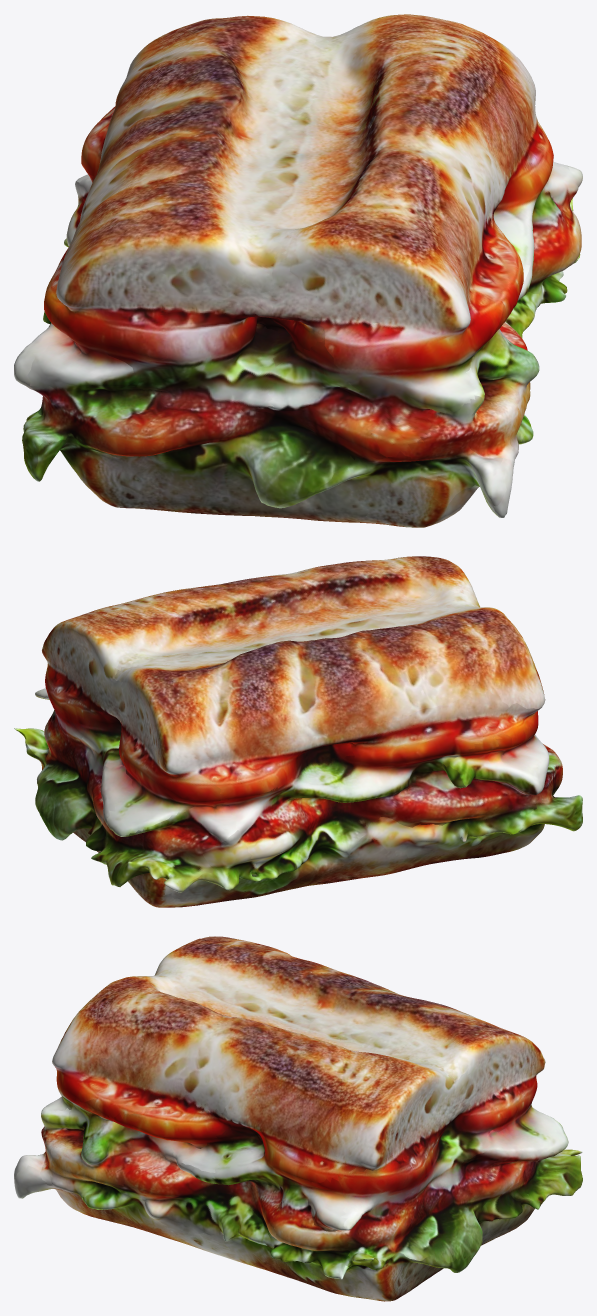
The model's file is sandwichsample.glb.
3 renders of one model, top to bottom at view 1: azimuth 30°, elevation 25°; view 2: azimuth 150°, elevation 25°; view 3: azimuth 270°, elevation 25°, orthographic. The views are drawn at different scales.
Visible parts, largest first — view 1: Object_4; view 2: Object_4; view 3: Object_4.
Boxes of the visible parts, left/top/right/bottom form: Object_4: left=14, top=14, right=582, bottom=527; Object_4: left=14, top=556, right=582, bottom=907; Object_4: left=14, top=936, right=582, bottom=1301.
Size of the model in its own units: 0.8821 by 0.4254 by 0.9253.
Materials: 1 (1 with a texture image).
